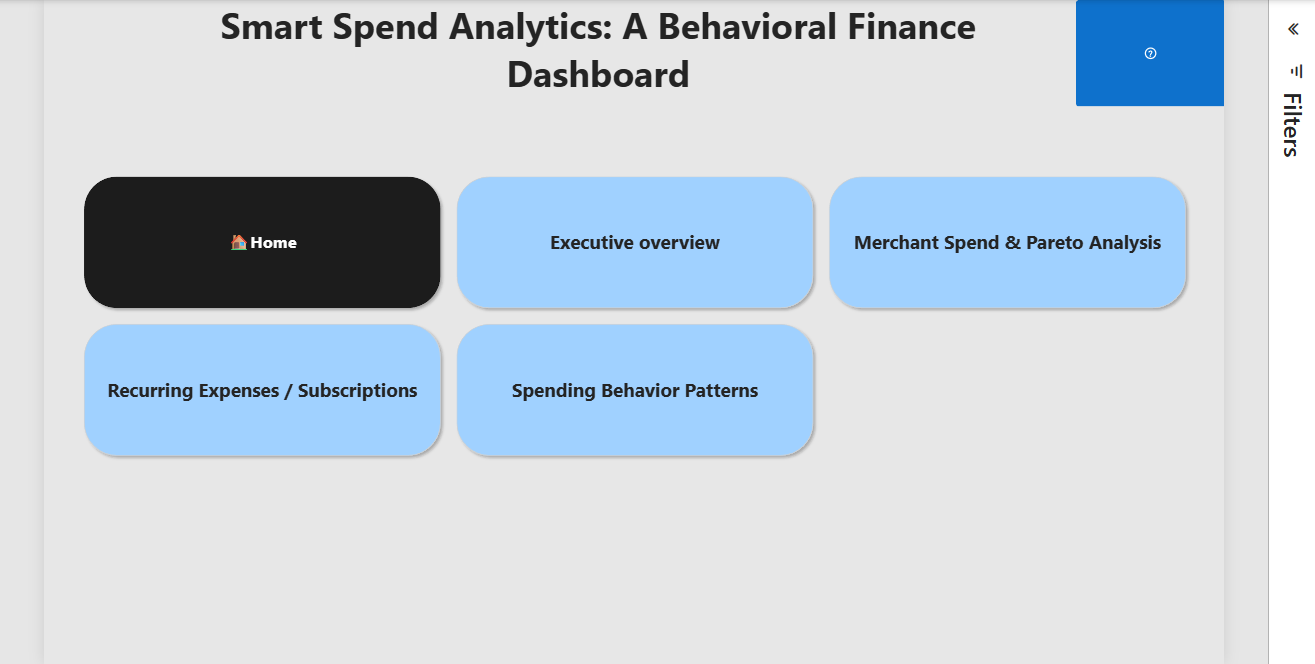

What the dashboard file says about the page in this screenshot:
{"tool":"powerbi","page":{"name":"🏠Home","canvas":[1920,1080],"ordinal":0},"visuals":[{"type":"pageNavigator","box":[56.1,278.1,1812.8,714.9],"z":0},{"type":"actionButton","box":[1678.3,0,242.7,173.3],"z":1000},{"type":"textbox","box":[278.1,0,1246.7,173.2],"z":2000}]}

Visuals, with their boxes on the page's 1920x1080 design canvas (x1, y1, x2, y2). These are canvas units, not pixel positions in the 1315x664 screenshot, which may show the page scaled, cropped or inside an application window:
pageNavigator: [56,278,1869,993]
actionButton: [1678,0,1921,173]
textbox: [278,0,1525,173]
